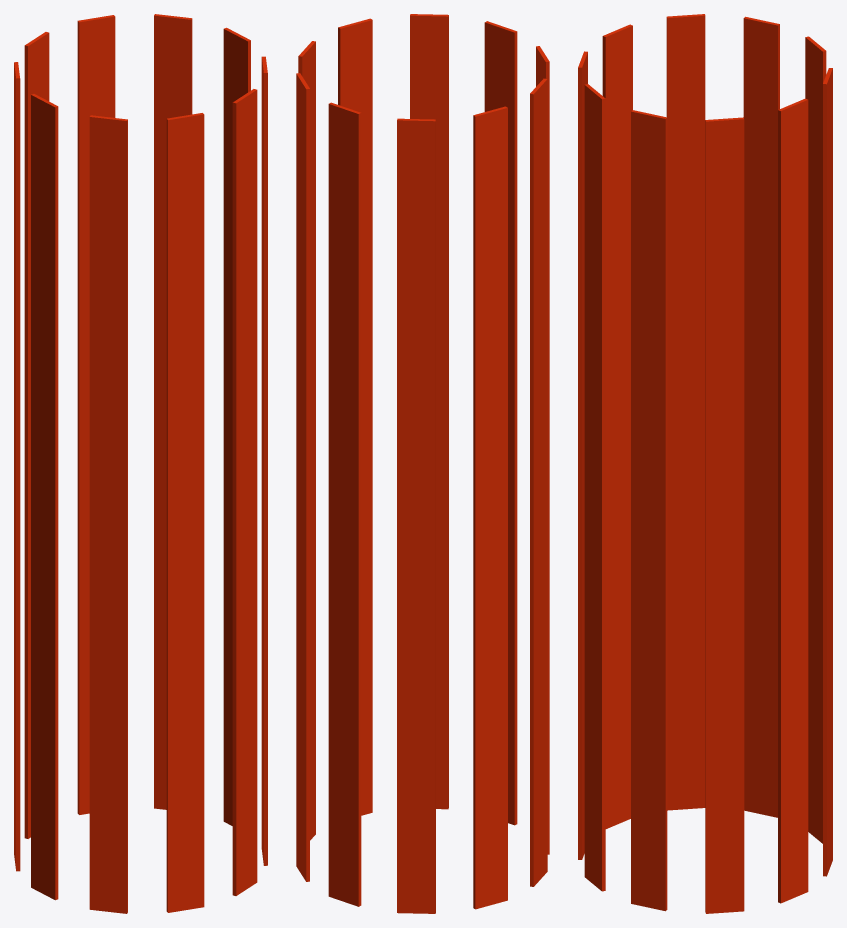
The model's file is stele_piece_effect.fbx.
3 renders of one model, left to right at view 1: azimuth 30°, elevation 25°; view 2: azimuth 150°, elevation 25°; view 3: azimuth 270°, elevation 25°, orthographic.
Visible parts, largest first — view 1: startPath; view 2: startPath; view 3: startPath.
Part boxes in pixels (bbox=[...]): startPath: bbox=[14, 14, 267, 913]; startPath: bbox=[296, 14, 549, 913]; startPath: bbox=[578, 14, 832, 913].
Size of the model in its own units: 2.06 by 7.08 by 2.06.
